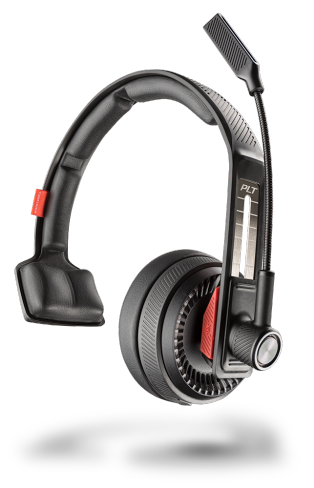Headphone: (12, 8, 285, 424)
